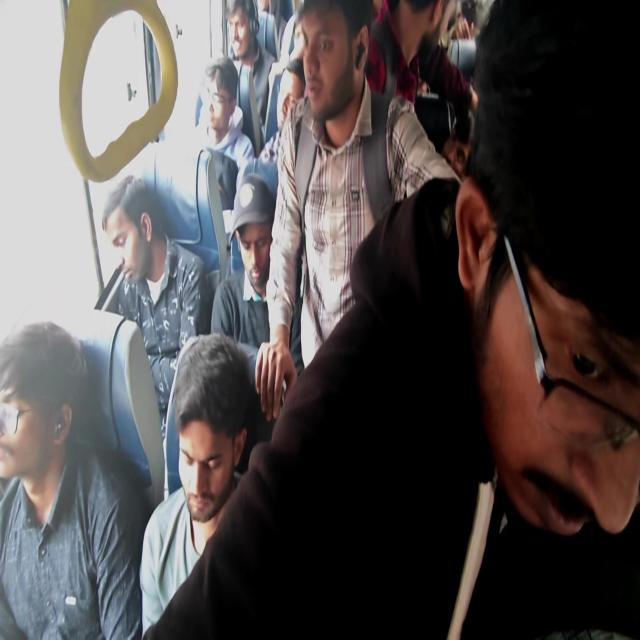person: (269, 5, 456, 401), (473, 212, 636, 535), (0, 318, 149, 639), (368, 0, 474, 120), (174, 331, 254, 447), (294, 0, 370, 121), (1, 321, 88, 420), (197, 56, 254, 205), (100, 171, 159, 289), (264, 60, 307, 166), (202, 56, 239, 104), (257, 10, 280, 60), (455, 0, 477, 39), (288, 17, 300, 57), (194, 88, 204, 129), (370, 0, 386, 22), (255, 0, 271, 15), (446, 14, 456, 38)
